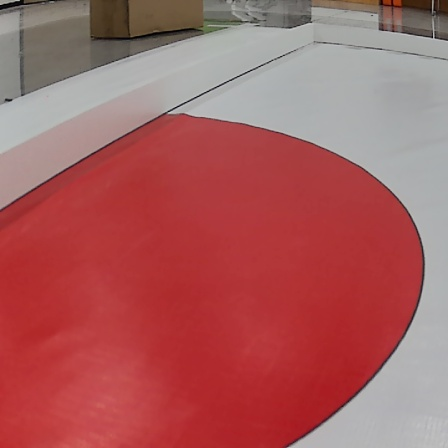red_base: (2, 106, 444, 448)
